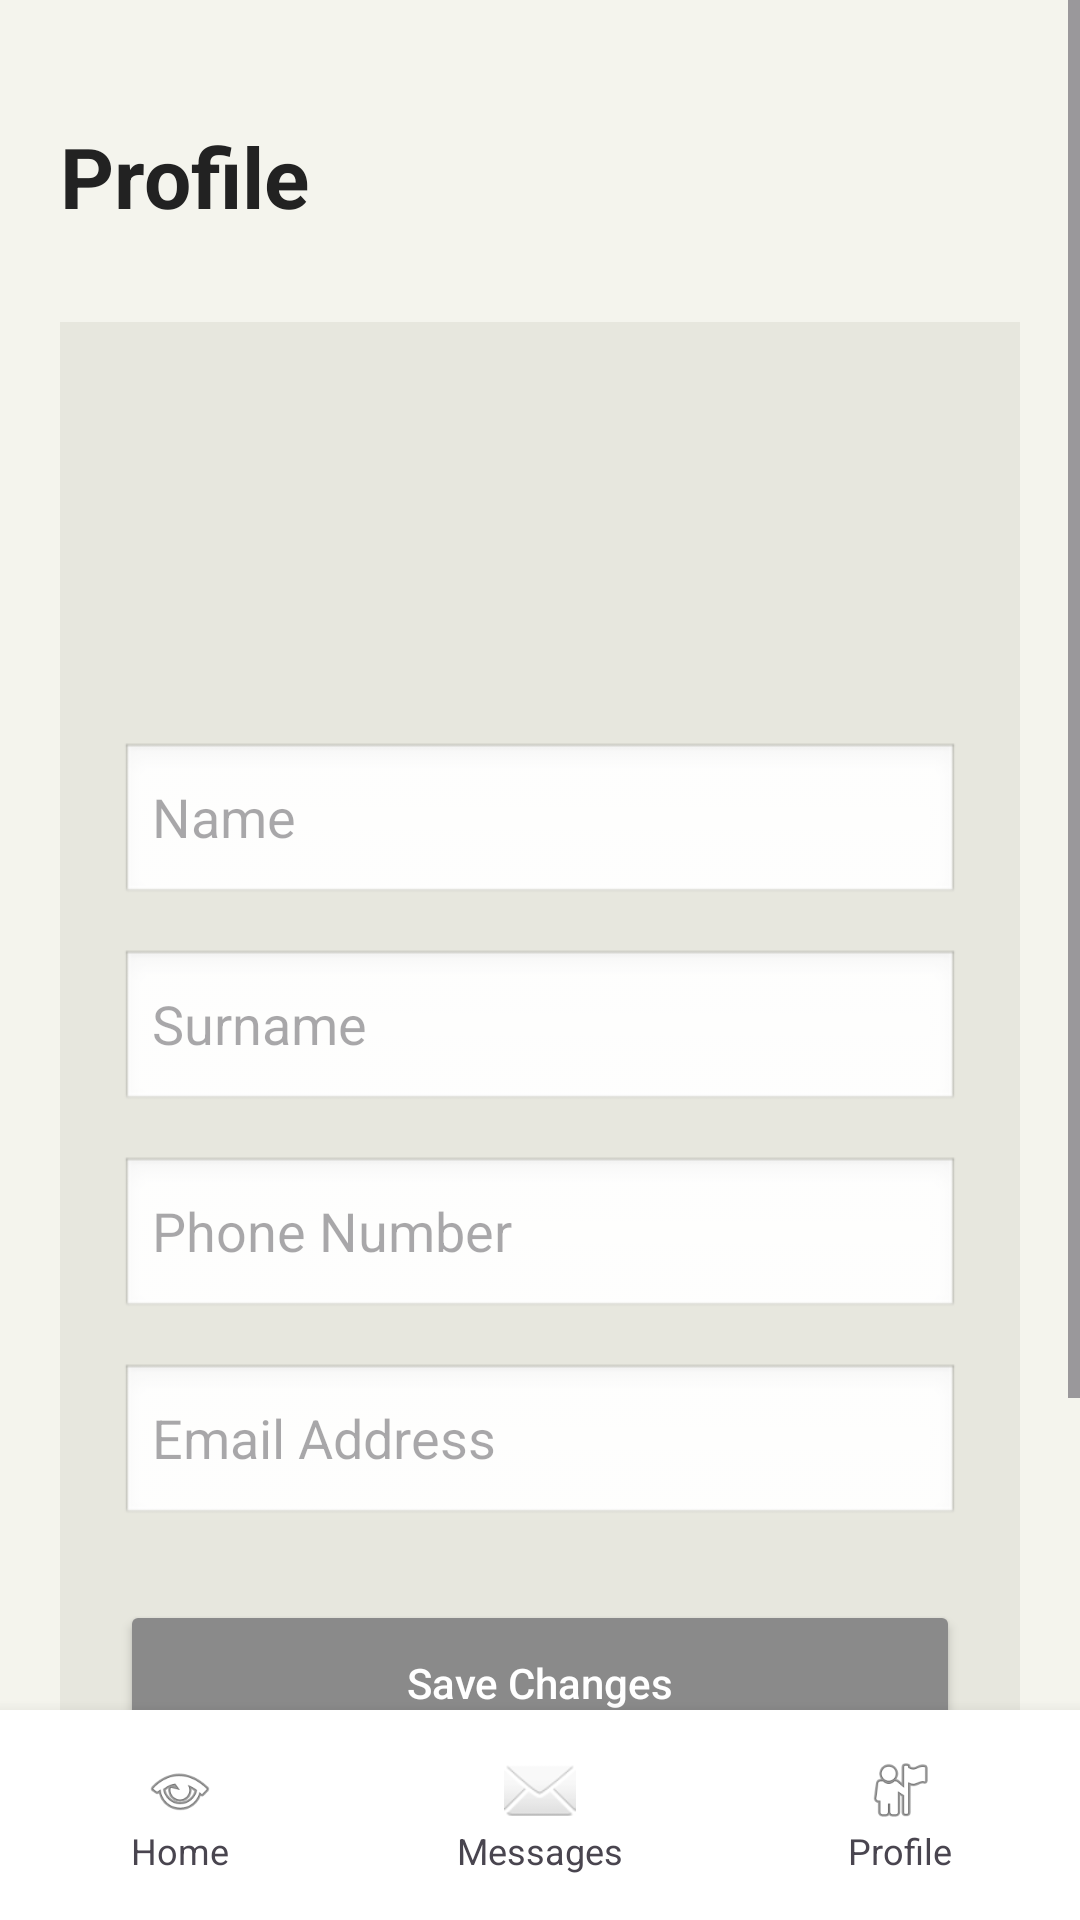

Icon click points for this 1080×1920 phone screenshot, format (x=x, y=y):
email: (x=540, y=1791)
view: (x=180, y=1791)
